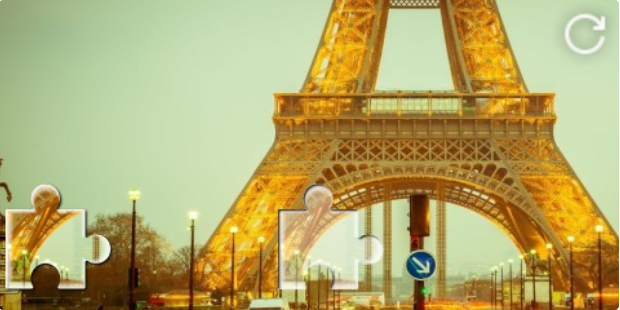target: (278, 186, 381, 290)
